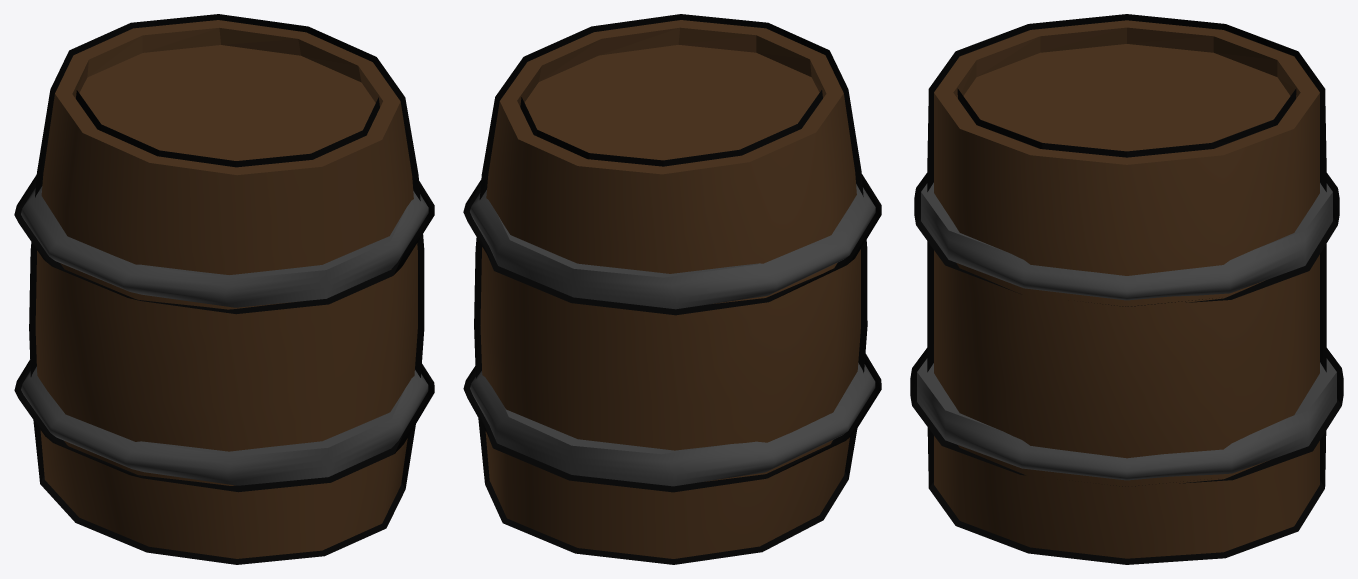
Rendered from Barrrrrrellllll.FBX.
3 renders of one model, left to right at view 1: azimuth 30°, elevation 25°; view 2: azimuth 150°, elevation 25°; view 3: azimuth 270°, elevation 25°, orthographic. The views are drawn at different scales.
Parts seen in each view (by area): view 1: Cylinder001, Cylinder002; view 2: Cylinder001, Cylinder002; view 3: Cylinder001, Cylinder002.
Part boxes in pixels (x1,y1,x2,y2): Cylinder001: [21, 20, 428, 558]; Cylinder002: [14, 14, 434, 564]; Cylinder001: [470, 20, 875, 558]; Cylinder002: [463, 14, 881, 564]; Cylinder001: [917, 20, 1336, 558]; Cylinder002: [910, 14, 1343, 564].
Size of the model in its own units: 14.22 by 14.73 by 14.35.
